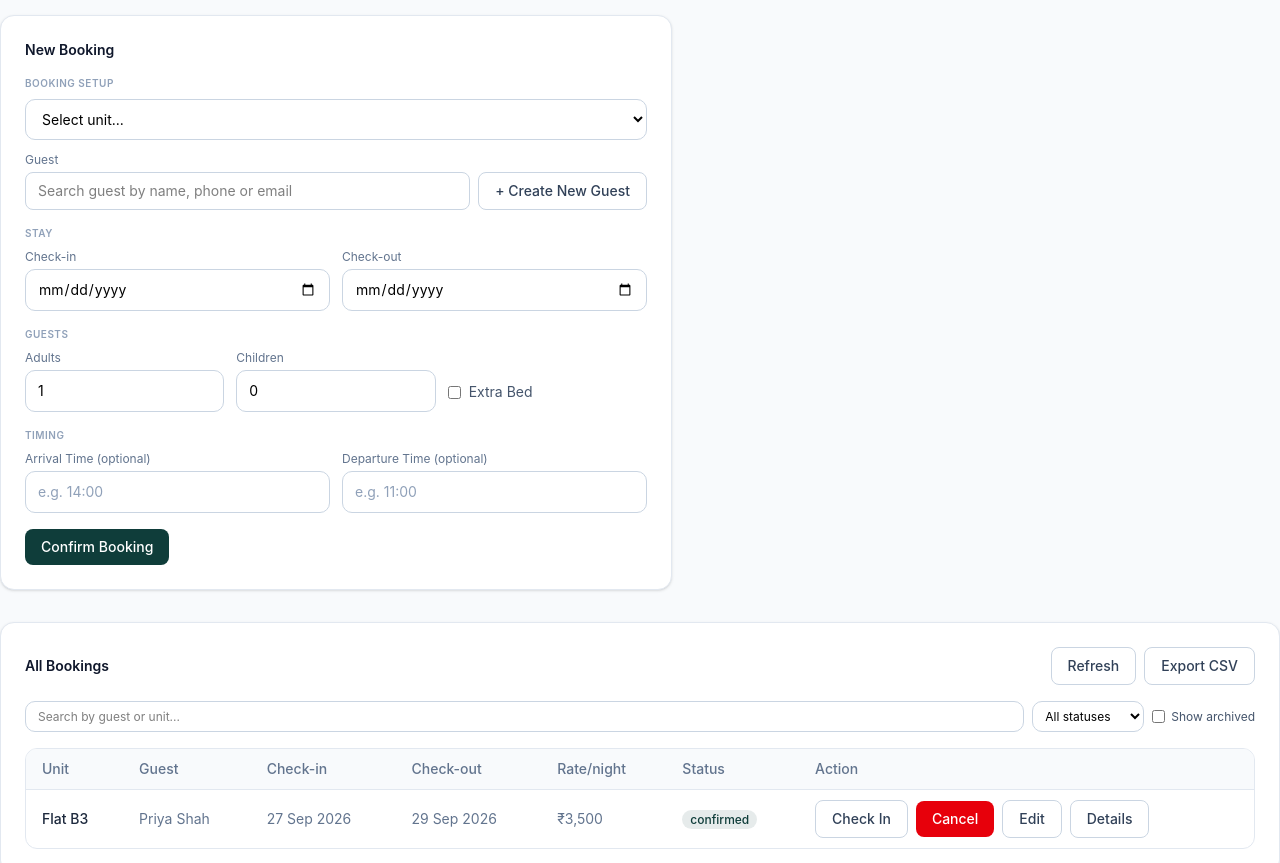
BookingsPage — UI polish › Cancel Booking uses the warning treatment, Delete Booking uses the danger treatment
Check: the text "Priya Shah" is shown, box left=123, top=790, right=251, bottom=848
What coordinates should you click on to do the following:
click the button "Edit"
I would click on:
 (1032, 819)
Its box is left=1002, top=800, right=1062, bottom=838.
(page scrolled)
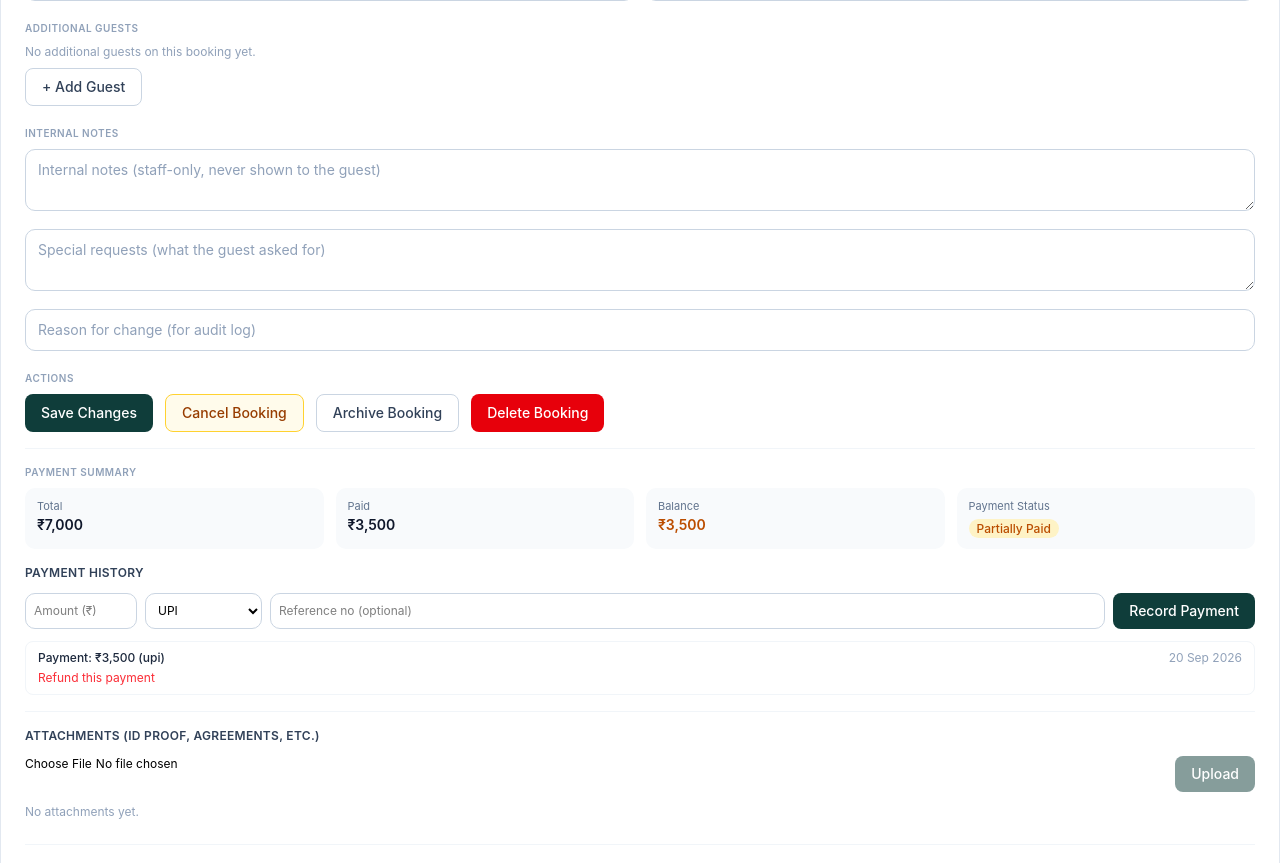
Check: the heading "Actions" is shown, box left=25, top=372, right=74, bottom=384
